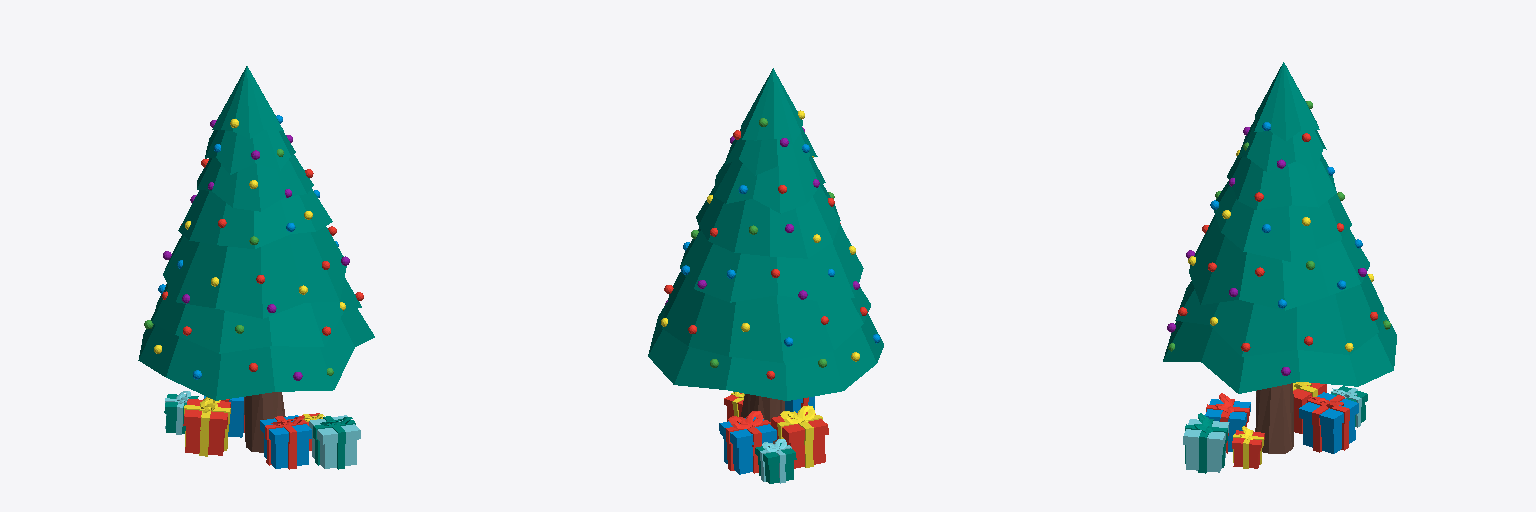
The model's file is christmas_tree2.obj.
3 views of the same model, side by side, from view 1: azimuth 30°, elevation 25°; view 2: azimuth 150°, elevation 25°; view 3: azimuth 270°, elevation 25° (orthographic).
Visible parts, largest first — view 1: group[number redacted], group[number redacted], group[number redacted]; view 2: group[number redacted], group[number redacted], group[number redacted]; view 3: group[number redacted], group[number redacted], group[number redacted].
Part boxes in pixels (x1,y1,x2,y2): group[number redacted]: (138,66,374,452); group[number redacted]: (260,413,360,469); group[number redacted]: (164,391,244,456); group[number redacted]: (648,68,883,443); group[number redacted]: (719,405,828,483); group[number redacted]: (724,392,814,421); group[number redacted]: (1163,62,1396,453); group[number redacted]: (1183,393,1264,473); group[number redacted]: (1293,382,1367,453).
Size of the model in its own units: 0.4829 by 0.8848 by 0.4926.